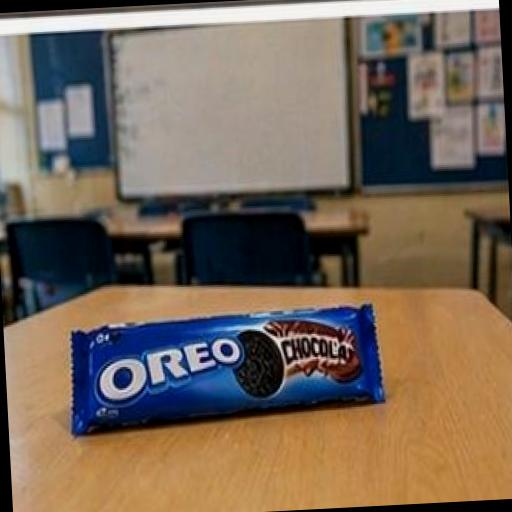oreo: (42, 262, 420, 472)
